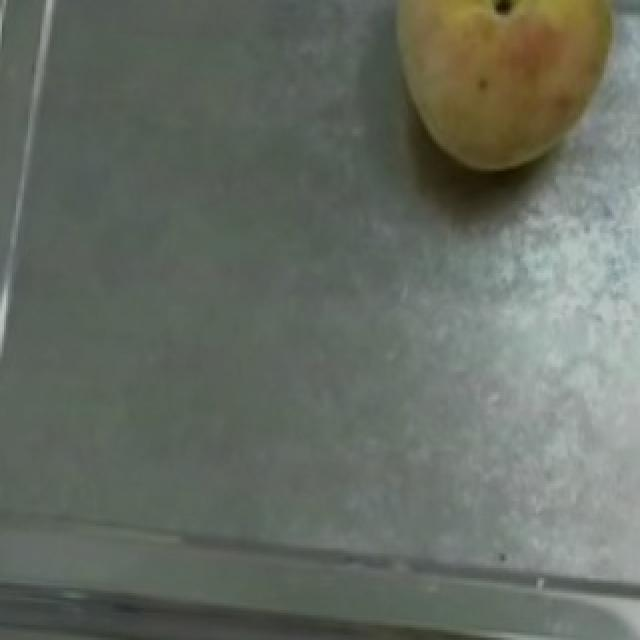Fruit: (356, 0, 640, 191)
